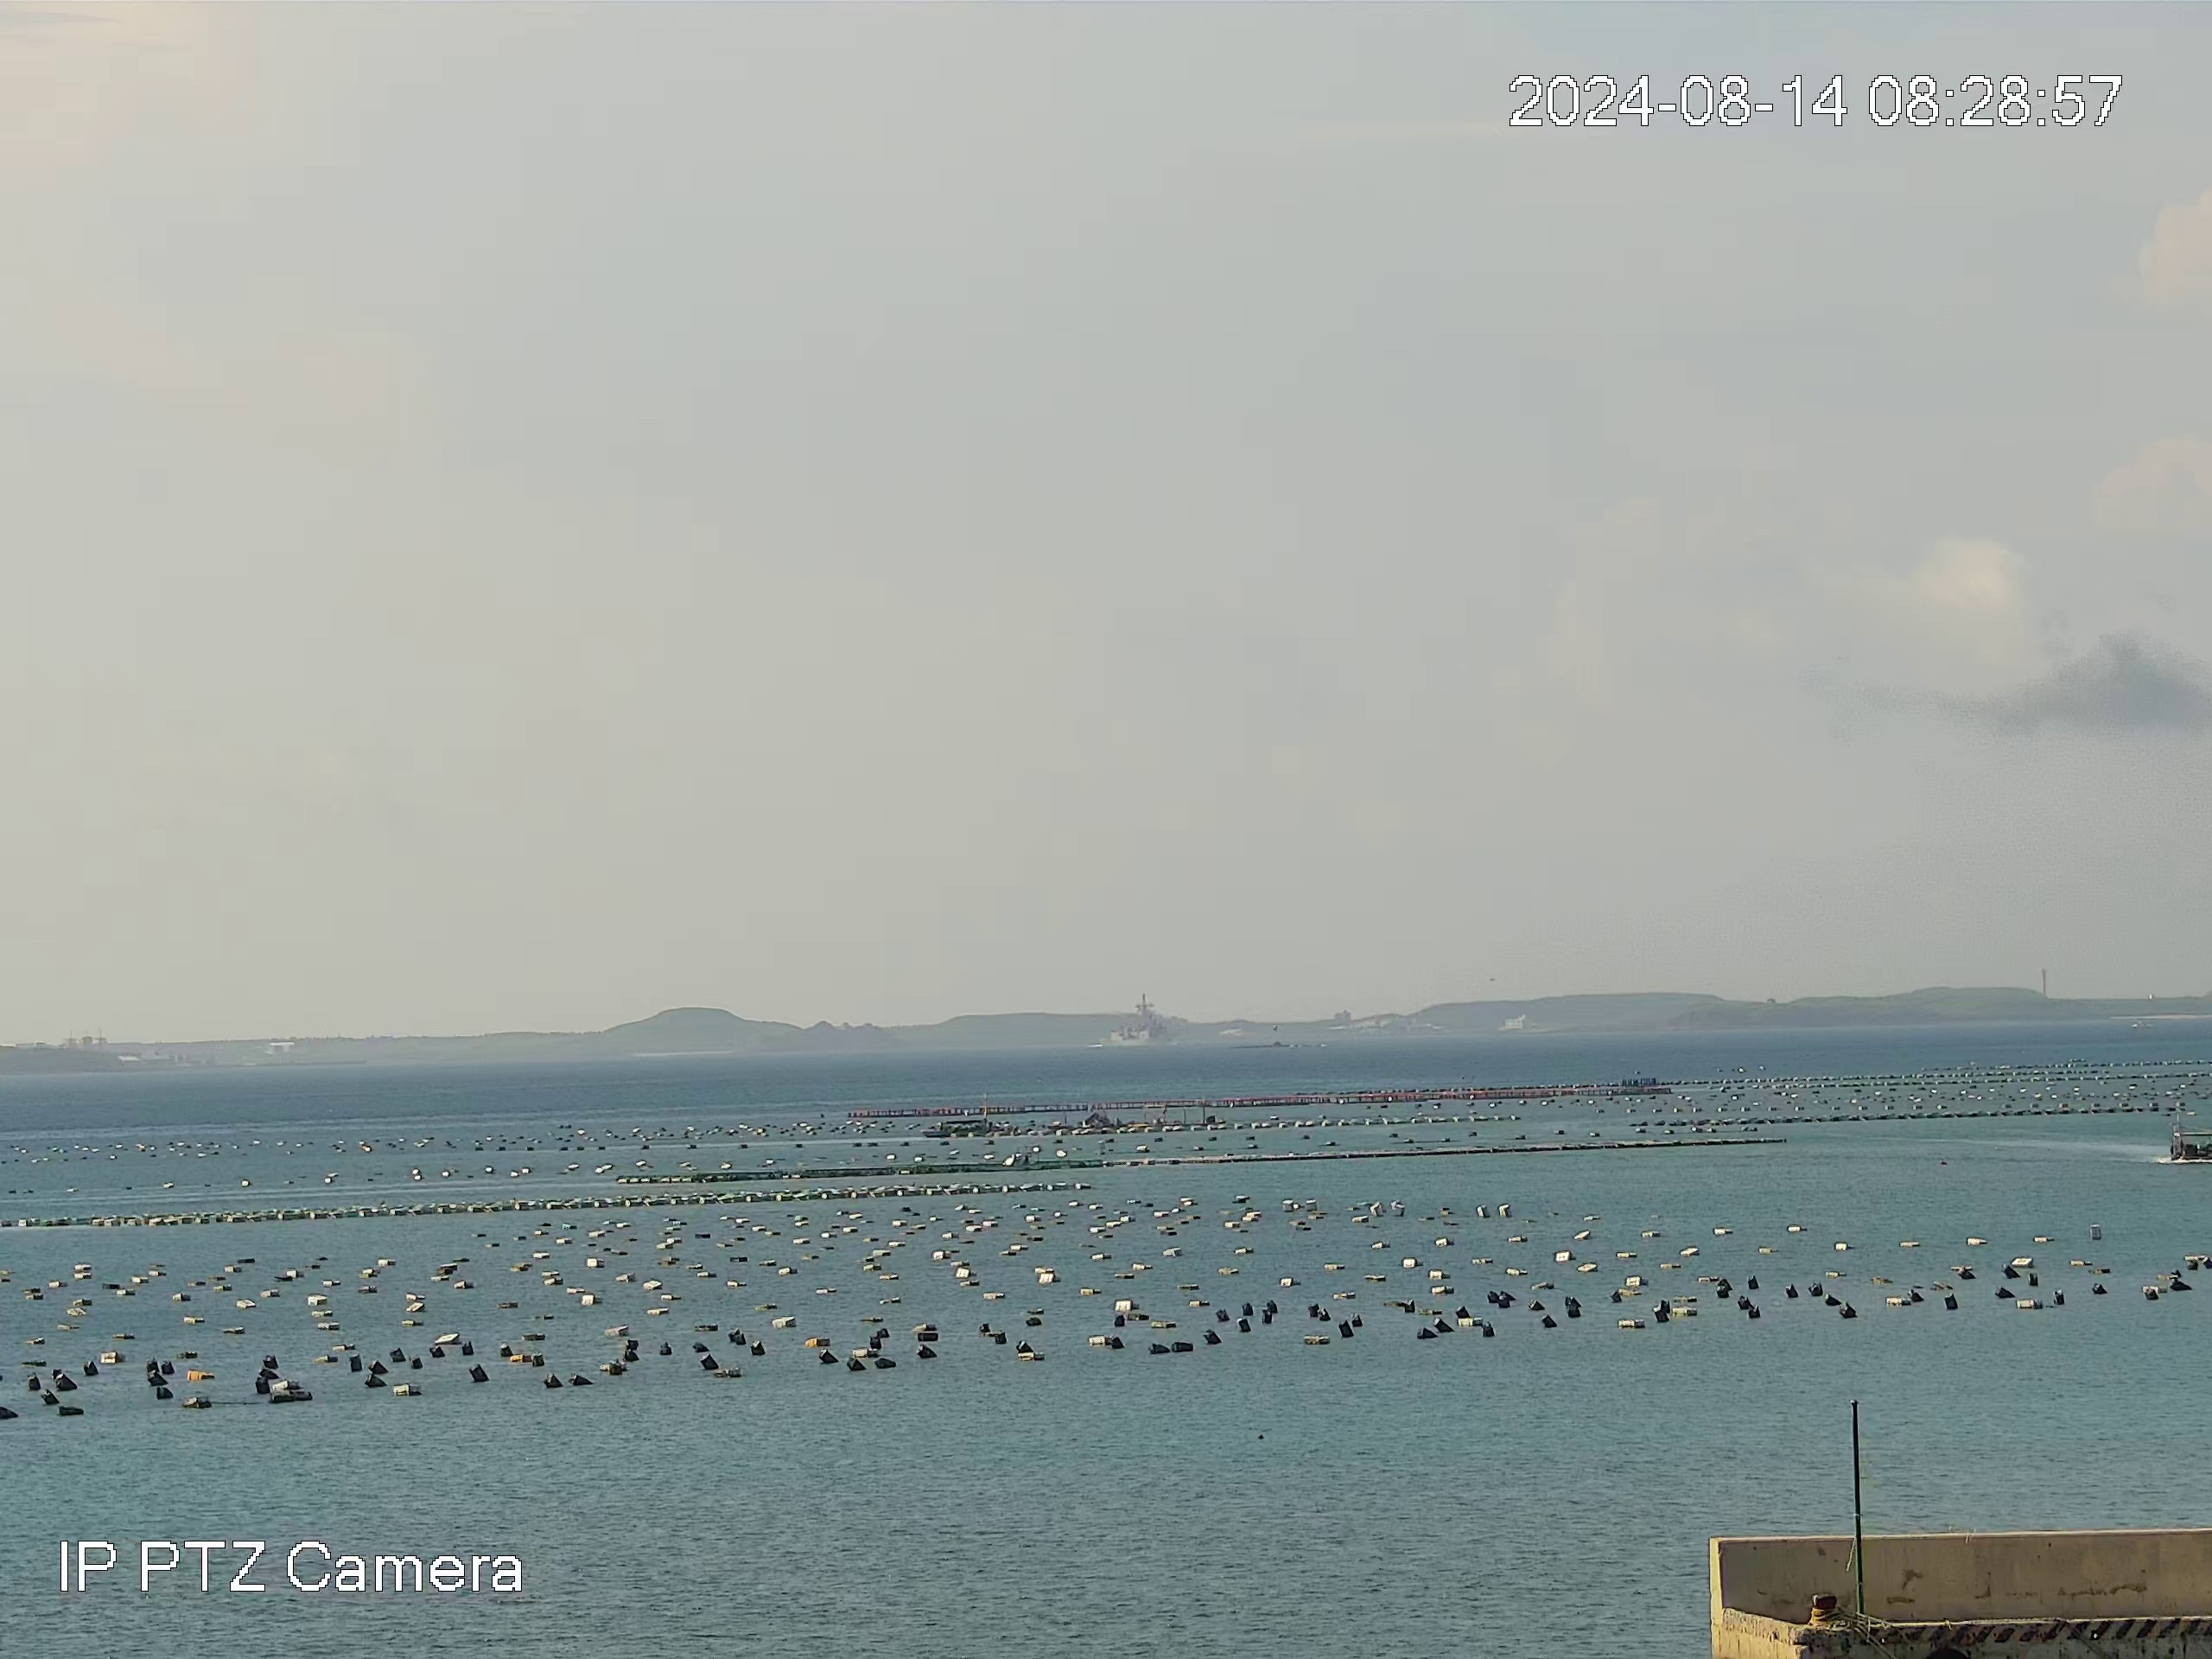boat: (925, 1115, 998, 1140)
